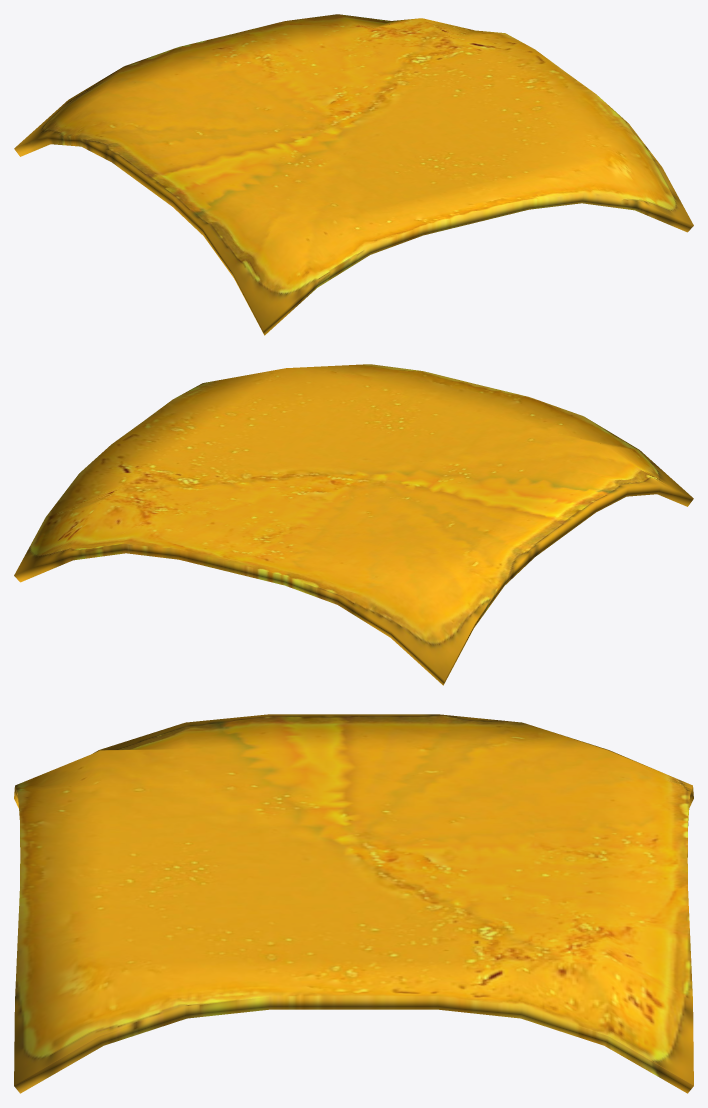
The model's file is cheese.glb.
3 views of the same model, one above another, from view 1: azimuth 30°, elevation 25°; view 2: azimuth 150°, elevation 25°; view 3: azimuth 270°, elevation 25° (orthographic). The views are drawn at different scales.
Parts seen in each view (by area): view 1: cheese; view 2: cheese; view 3: cheese.
Part boxes in pixels (<box>): cheese: <box>14,14,693,335</box>; cheese: <box>14,364,693,685</box>; cheese: <box>14,714,693,1093</box>.
Bounding box in the file's own units: 9.37 × 1.48 × 9.37.
1 material, 1 textured.
